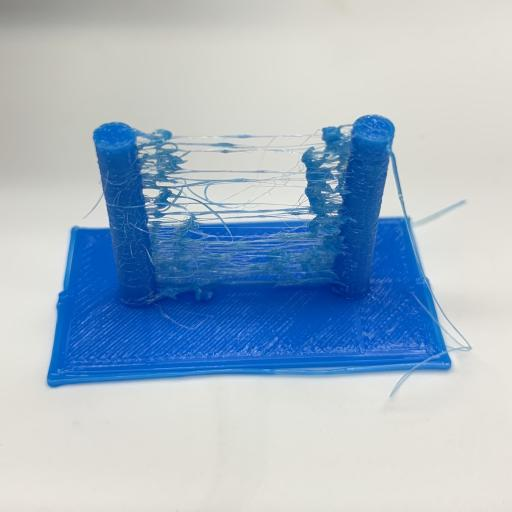stringing: (134, 123, 350, 297)
